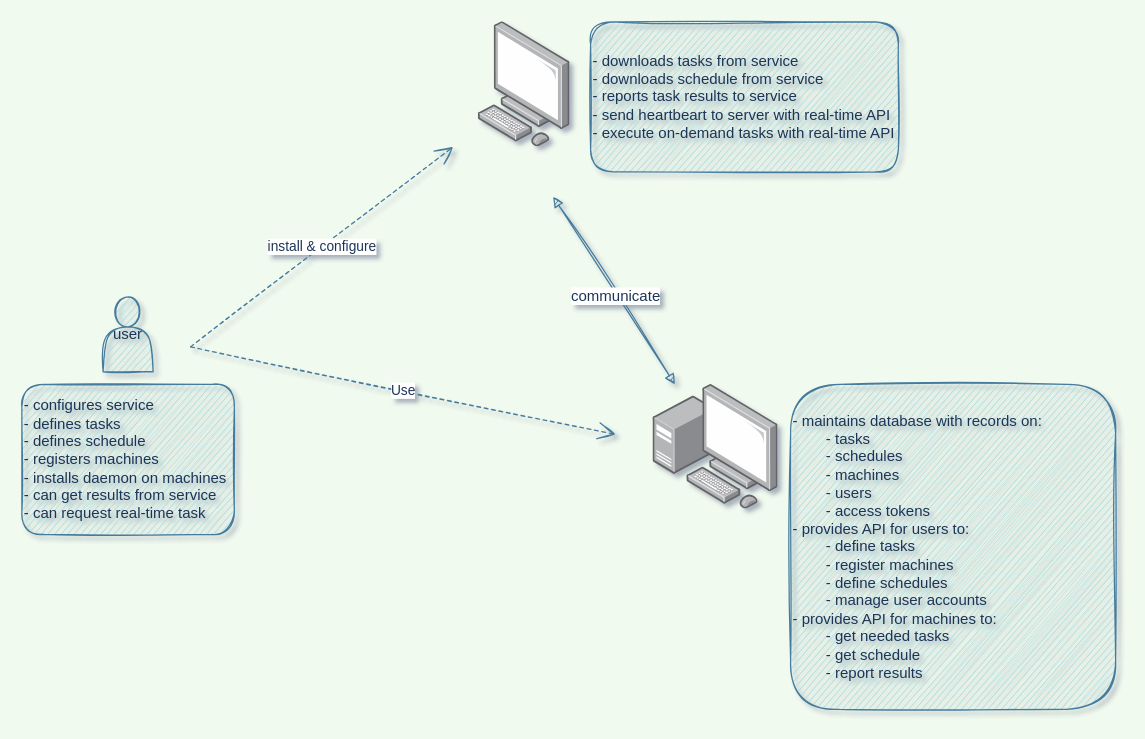
The diagram is 1145 pixels wide and 739 high, and some of its shapes have lost their labels. Here are the shapes that lost their labels. From the top down, the box of each, then its label:
(478, 21, 570, 146): machine client
(652, 384, 778, 509): taskey service
